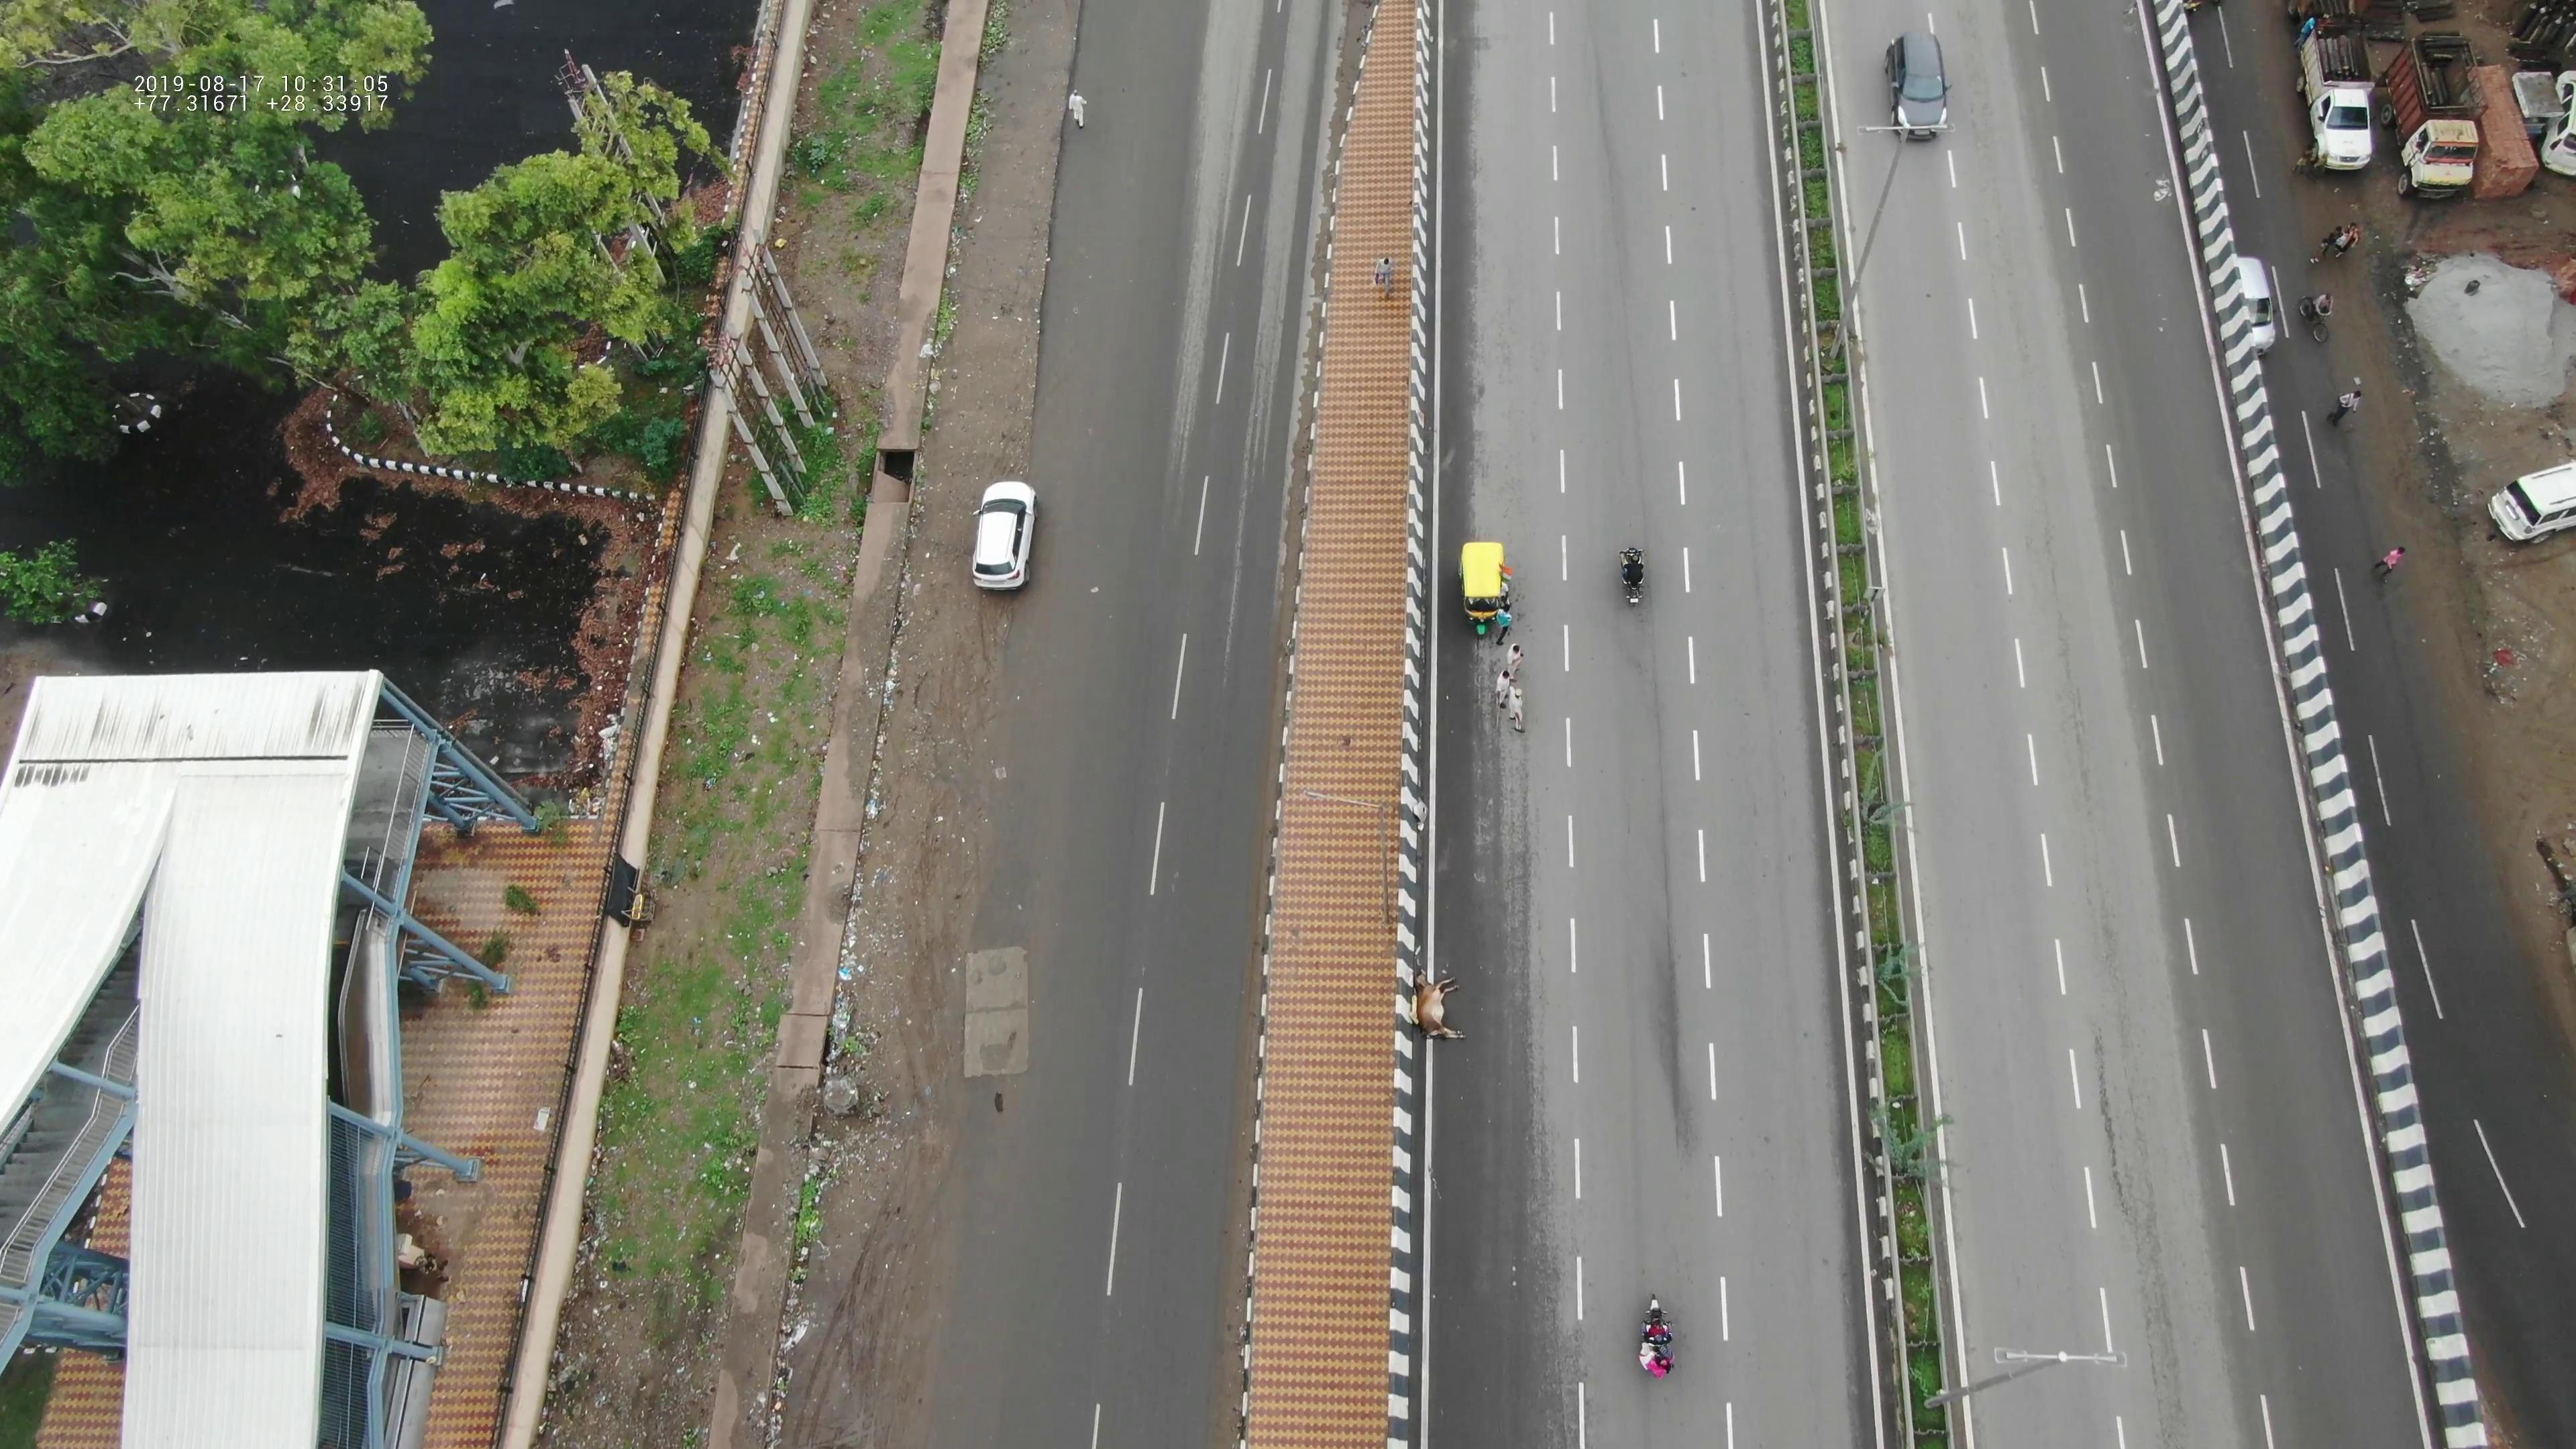Mud_heaps: (2383, 235, 2576, 425)
Muddy_road: (787, 1113, 964, 1433), (824, 780, 984, 1079), (874, 589, 1001, 759)
Ravelling: (2082, 1017, 2176, 1261)
